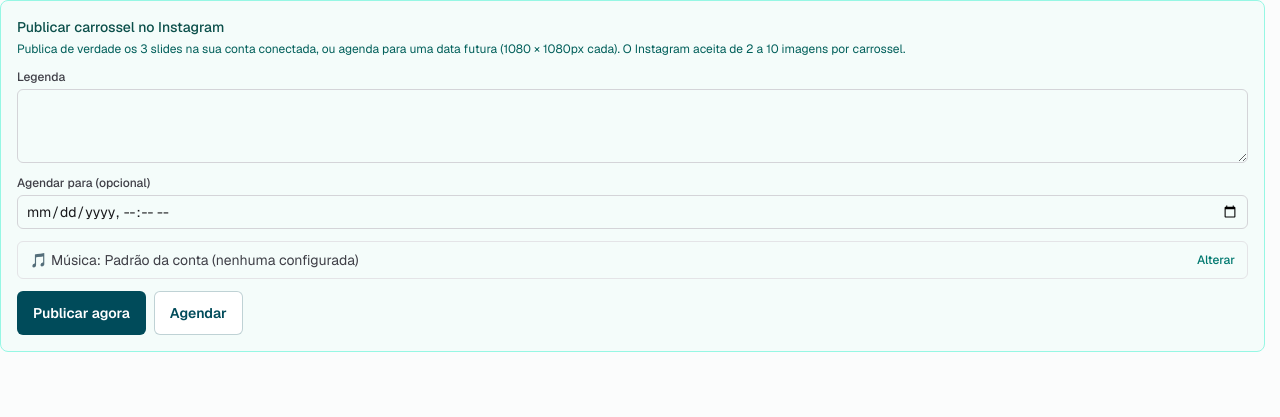
it: CarouselPublishPanel › mostra um erro e não gera nenhum slide se "Agendar" é clicado sem escolher uma data
The image size is (1280, 417).
Click the button "Agendar" at (198, 313), box top-left (154, 291), bottom-right (243, 335)
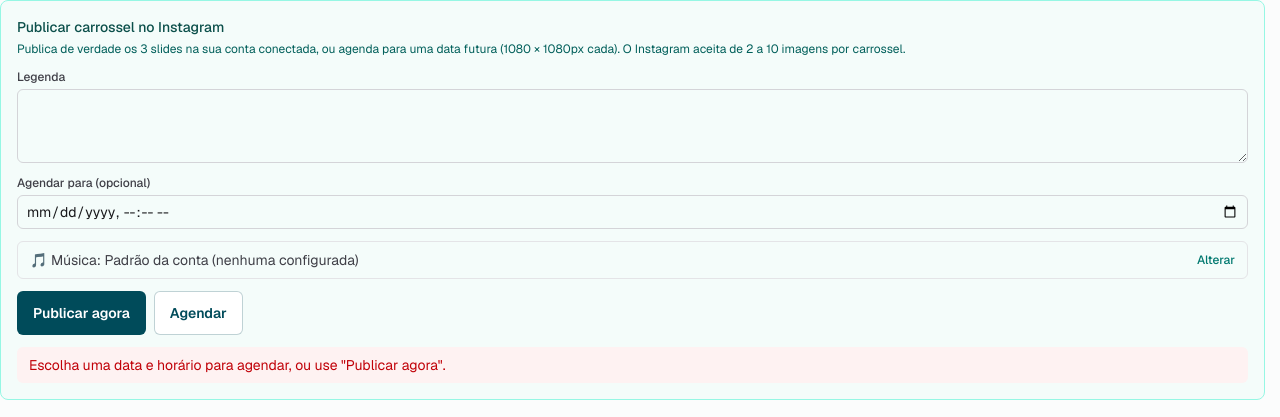
Check: the message shows "Escolha uma data", box top-left (29, 356), bottom-right (446, 374)
